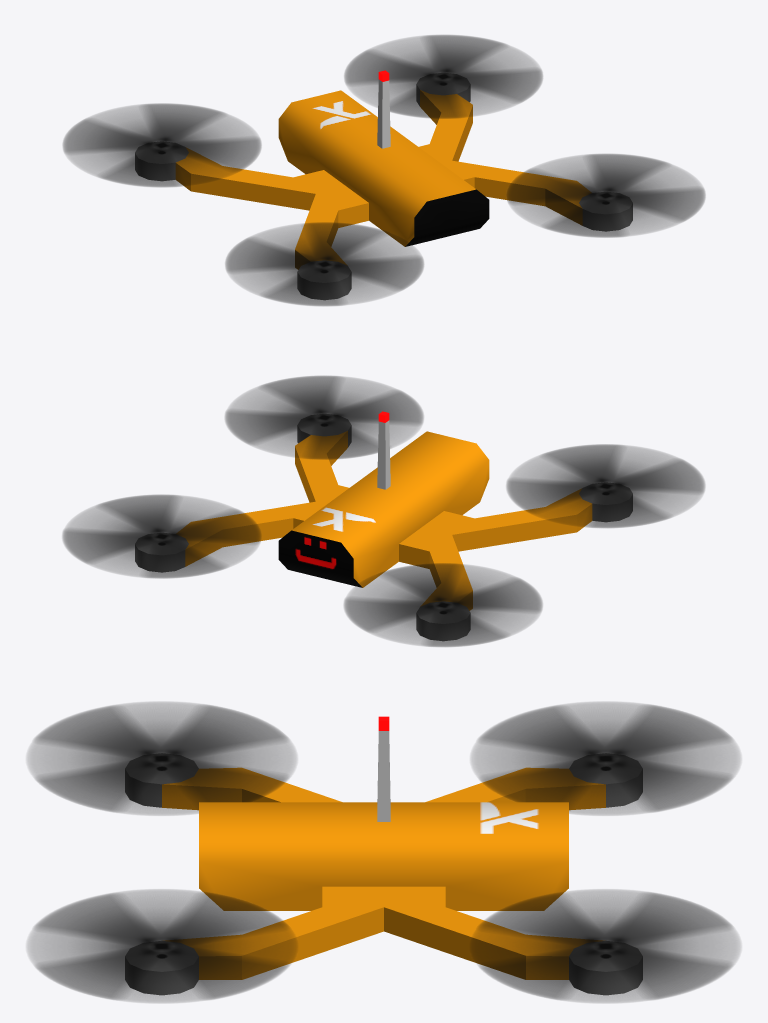
Rendered from drone.glb.
3 views of the same model, one above another, from view 1: azimuth 30°, elevation 25°; view 2: azimuth 150°, elevation 25°; view 3: azimuth 270°, elevation 25° (orthographic). The views are drawn at different scales.
Parts seen in each view (by area): view 1: DroneBody, Propeller2, Propeller4, Propeller3, Propeller1; view 2: DroneBody, Propeller4, Propeller3, Propeller1, Propeller2; view 3: DroneBody, Propeller1, Propeller2, Propeller4, Propeller3.
Part boxes in pixels (x1,y1,x2,y2): DroneBody: (135, 70, 632, 300); Propeller2: (507, 154, 705, 237); Propeller4: (63, 103, 261, 186); Propeller3: (225, 222, 423, 305); Propeller1: (344, 35, 542, 118); DroneBody: (135, 411, 632, 641); Propeller4: (344, 563, 542, 646); Propeller3: (506, 444, 704, 527); Propeller1: (62, 495, 260, 578); Propeller2: (225, 376, 423, 459); DroneBody: (125, 716, 642, 995); Propeller1: (471, 889, 740, 1002); Propeller2: (27, 889, 296, 1002); Propeller4: (471, 702, 740, 815); Propeller3: (27, 702, 296, 815).
Bounding box in the file's own units: 20 × 4.99 × 20.
2 materials, 2 textured.
